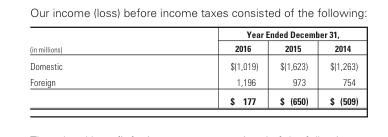table: (29, 28, 357, 106)
table column: (145, 28, 268, 106), (29, 28, 145, 106), (268, 28, 318, 106), (318, 28, 357, 106)
table column header: (29, 28, 357, 56)
table row: (29, 56, 357, 73), (29, 73, 357, 90), (29, 90, 357, 106), (29, 41, 357, 56), (29, 28, 357, 41)
table spanning cell: (29, 28, 145, 56), (145, 28, 357, 41)
